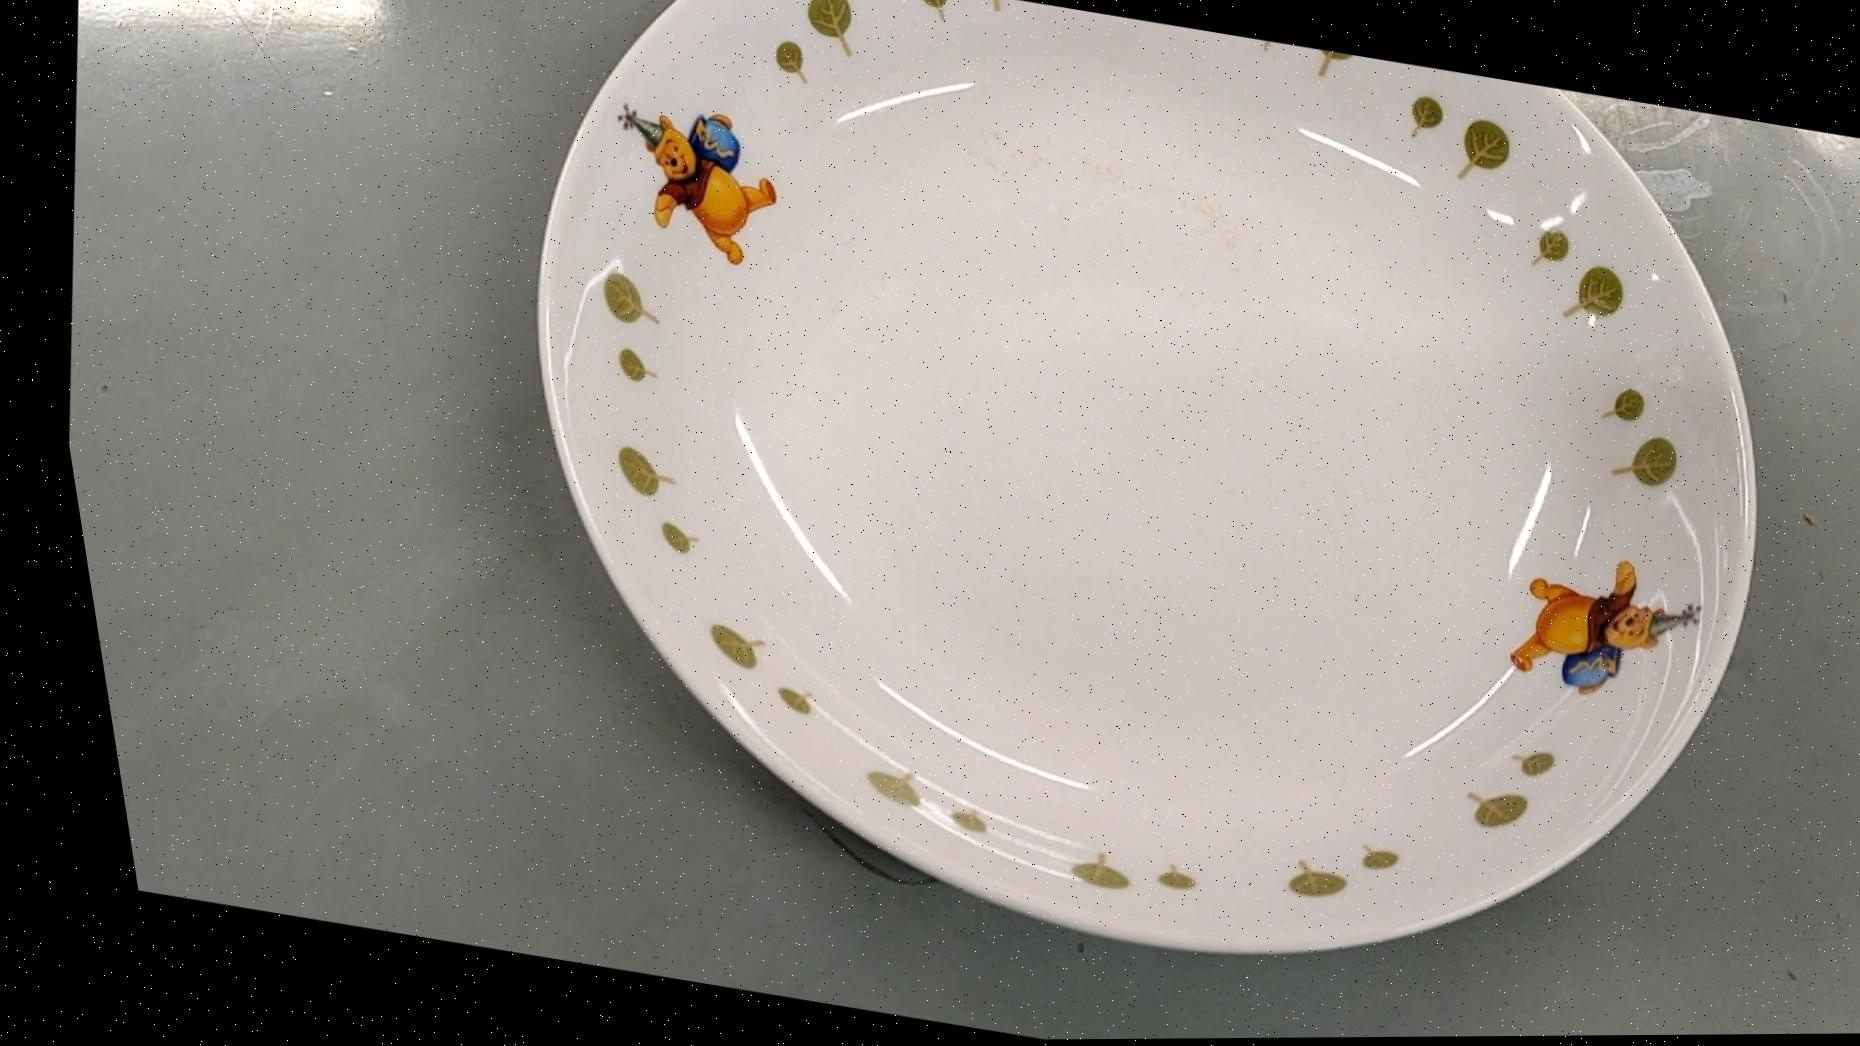plate: (397, 0, 1860, 1043)
